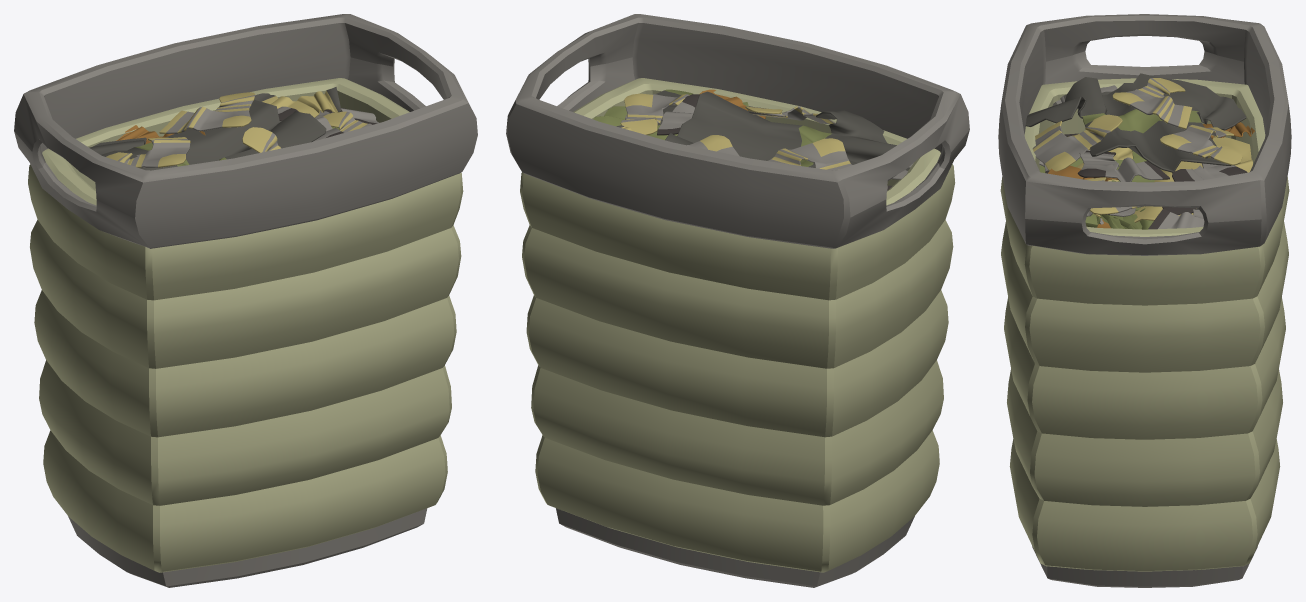
File: LaundryBasket.fbx
3 renders of one model, left to right at view 1: azimuth 30°, elevation 25°; view 2: azimuth 150°, elevation 25°; view 3: azimuth 270°, elevation 25°, orthographic.
Visible parts, largest first — view 1: LaundryBasketFull; view 2: LaundryBasketFull; view 3: LaundryBasketFull.
Part boxes in pixels (x1,y1,x2,y2): LaundryBasketFull: [14, 14, 477, 587]; LaundryBasketFull: [506, 14, 969, 587]; LaundryBasketFull: [998, 14, 1291, 587].
Bounding box in the file's own units: 1.03 × 1.15 × 0.724.
